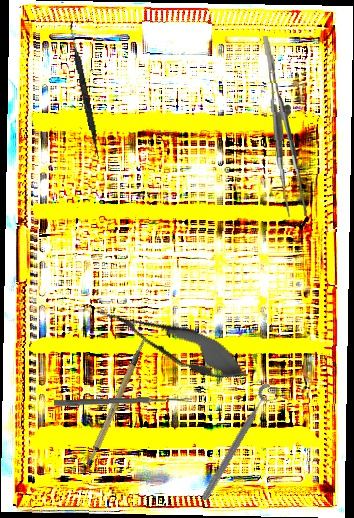Fixation Ring: (197, 381, 283, 507)
Micro Scissor: (87, 291, 257, 393)
Scalpel Handle: (69, 336, 167, 469)
Spatula Surgical: (64, 22, 105, 160)
Surgical Spoon: (53, 395, 193, 408)
Tissue Forceps: (262, 34, 307, 218)
